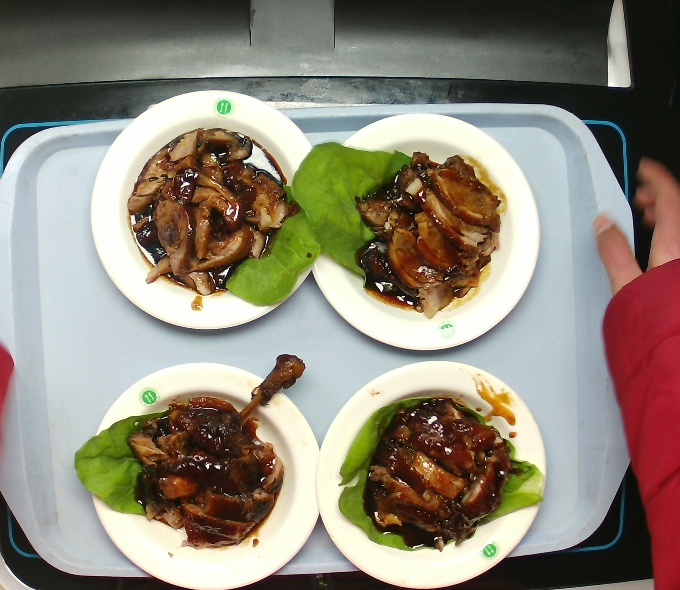wcq-MiZhiYa: (115, 118, 318, 321), (80, 387, 304, 544), (334, 380, 540, 549), (312, 149, 496, 313)
